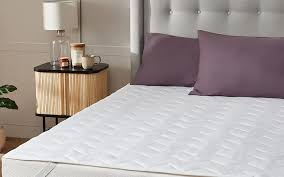bed-matress: (2, 80, 284, 177)
